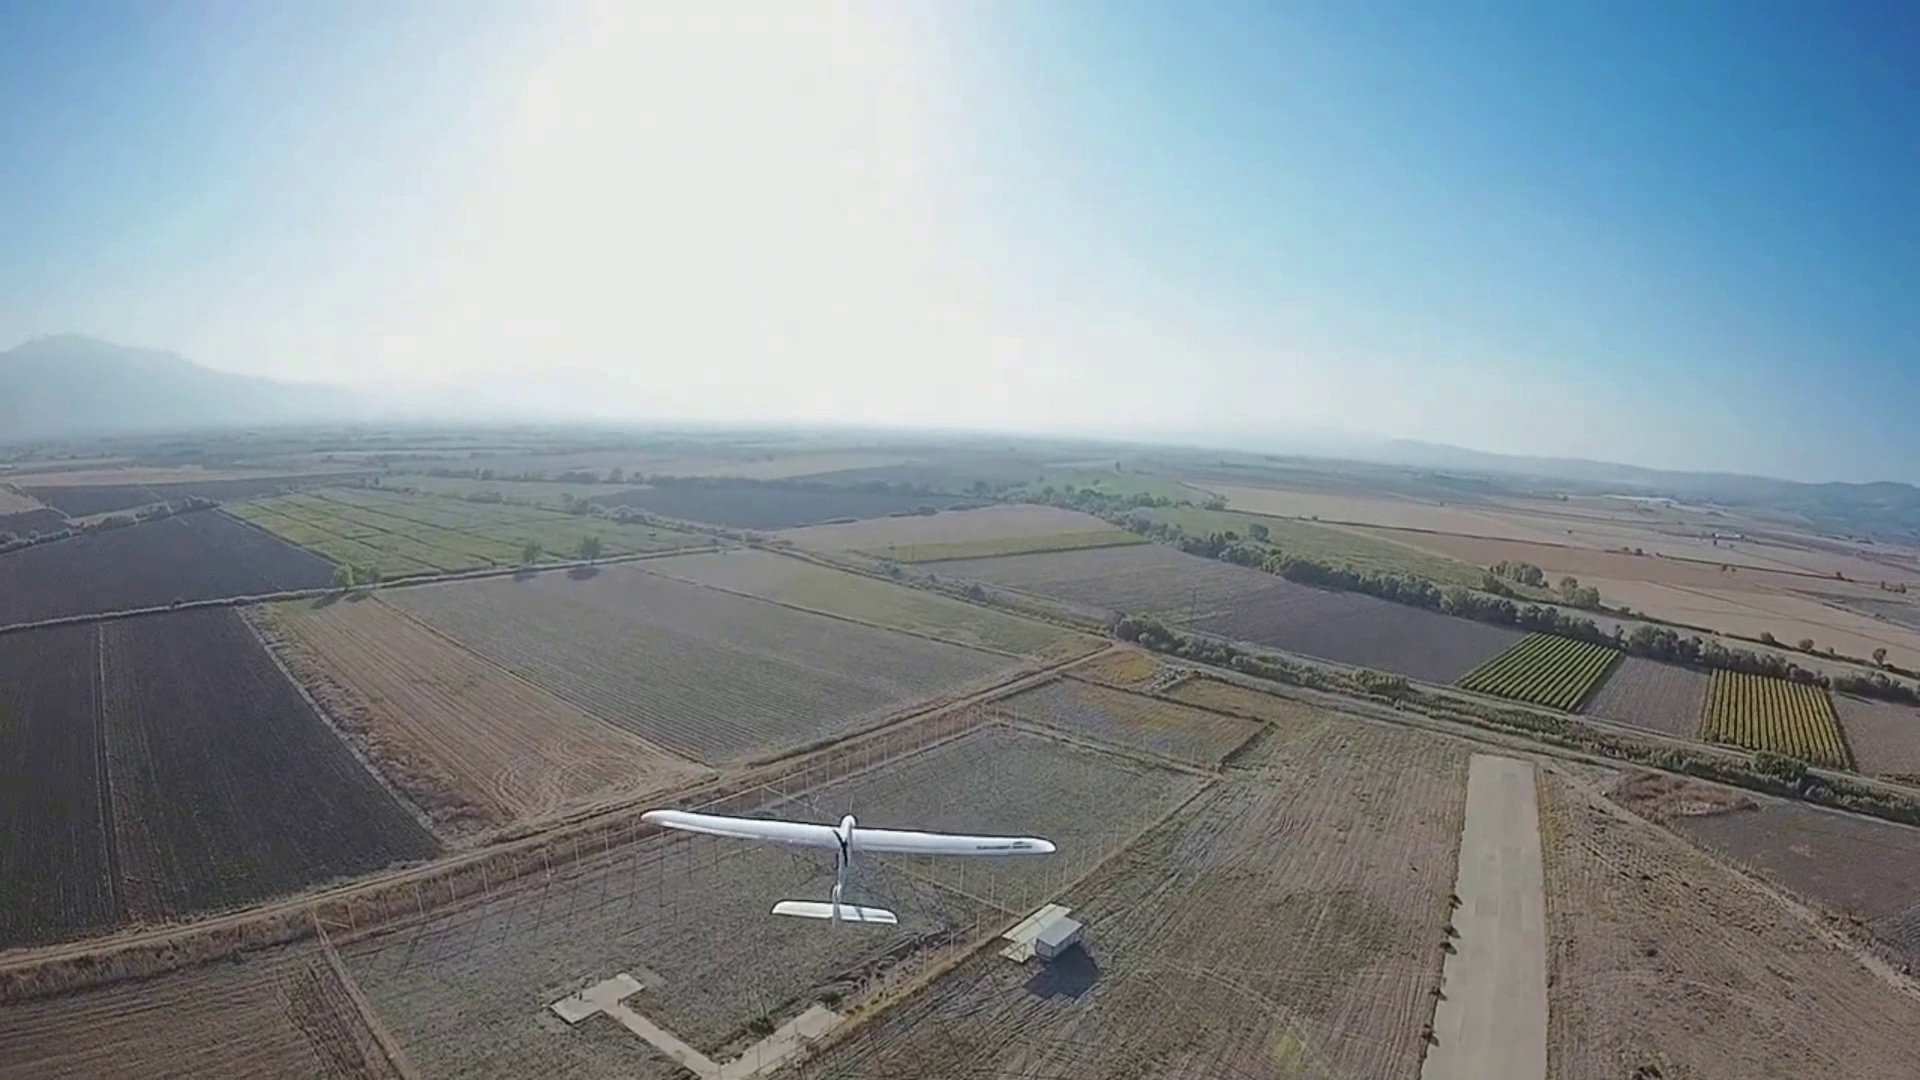airplane: (639, 806, 1061, 926)
